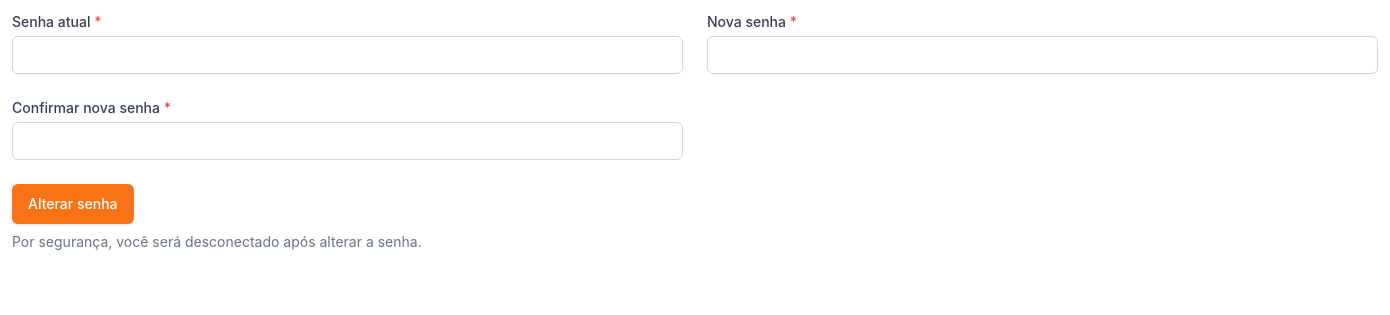
Test: PasswordForm › deve exibir erro quando nova senha tem menos de 6 caracteres
Type "senha123" into the password field with id "senha_atual" at x=348, y=55, box x1=12 y1=36 x2=683 y2=74
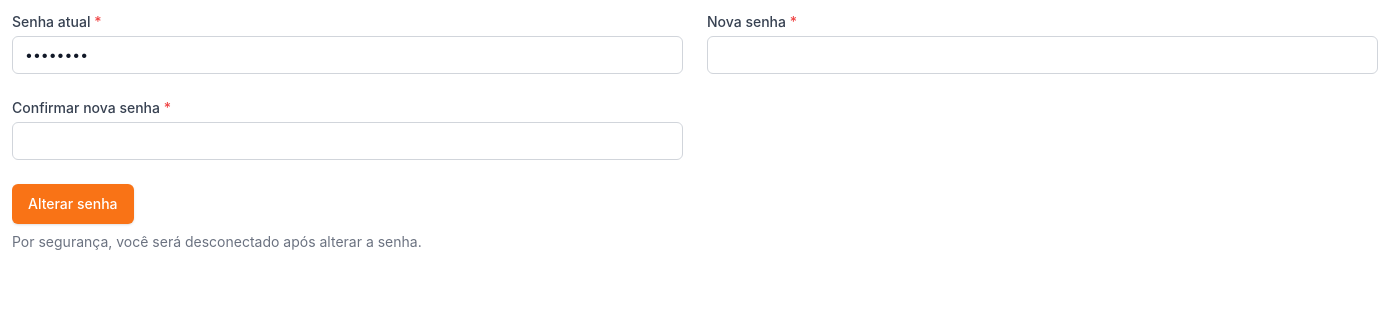
Type "12345" into the password field with id "nova_senha" at x=1042, y=55, box x1=707 y1=36 x2=1378 y2=74
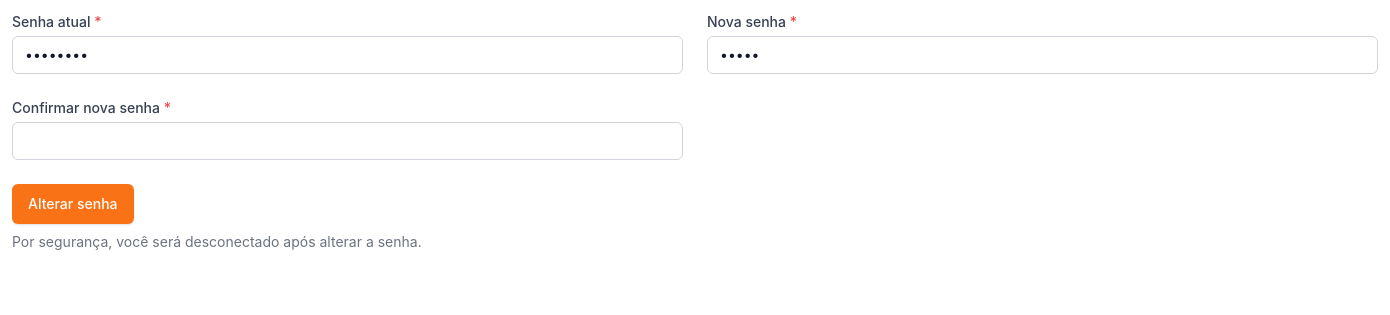
Submit the form "Alterar senha"
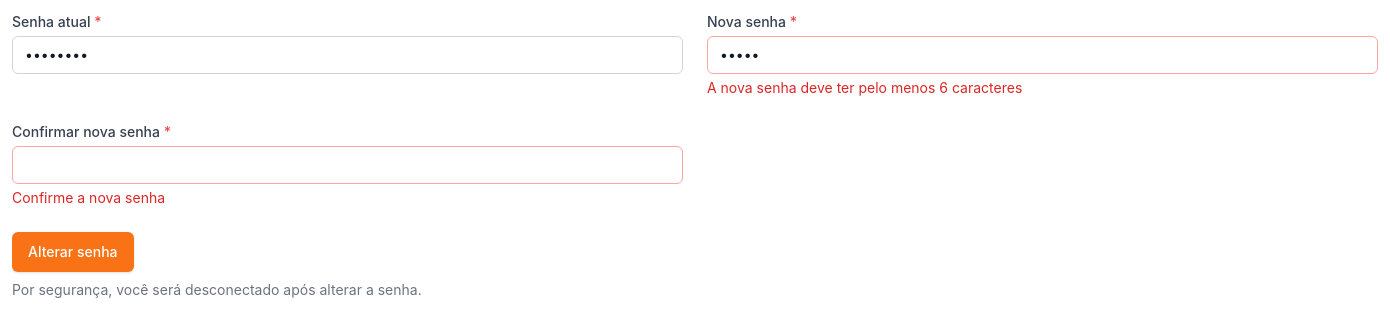
Expected: the text "A nova senha deve ter pelo menos 6 caracteres" is shown, x1=707 y1=79 x2=1022 y2=96
